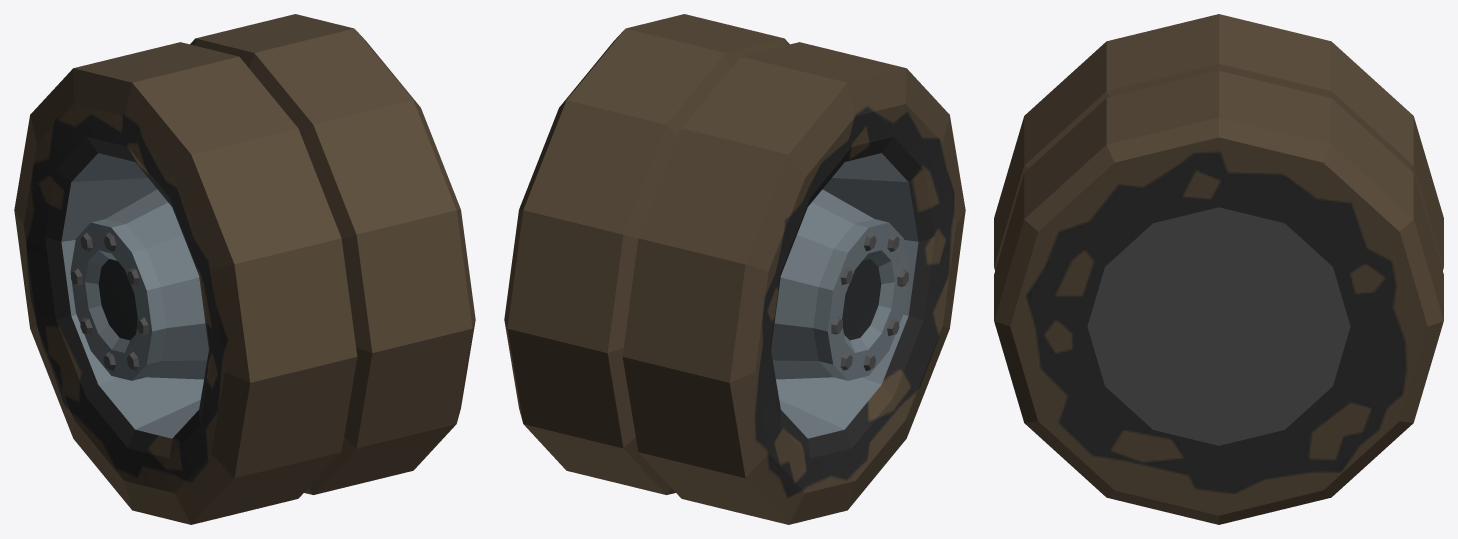
The model's file is SM_Veh_Truck_01_Wheel_rr.obj.
3 renders of one model, left to right at view 1: azimuth 30°, elevation 25°; view 2: azimuth 150°, elevation 25°; view 3: azimuth 270°, elevation 25°, orthographic. The views are drawn at different scales.
Parts seen in each view (by area): view 1: SM_Veh_Truck_01_Wheel_rr_0; view 2: SM_Veh_Truck_01_Wheel_rr_0; view 3: SM_Veh_Truck_01_Wheel_rr_0.
Boxes of the visible parts, x1,y1,x2,y2 form: SM_Veh_Truck_01_Wheel_rr_0: (14, 14, 475, 524); SM_Veh_Truck_01_Wheel_rr_0: (504, 14, 965, 524); SM_Veh_Truck_01_Wheel_rr_0: (994, 14, 1443, 524).
Bounding box in the file's own units: 0.8466 × 1.34 × 1.34.
1 material, 1 textured.
